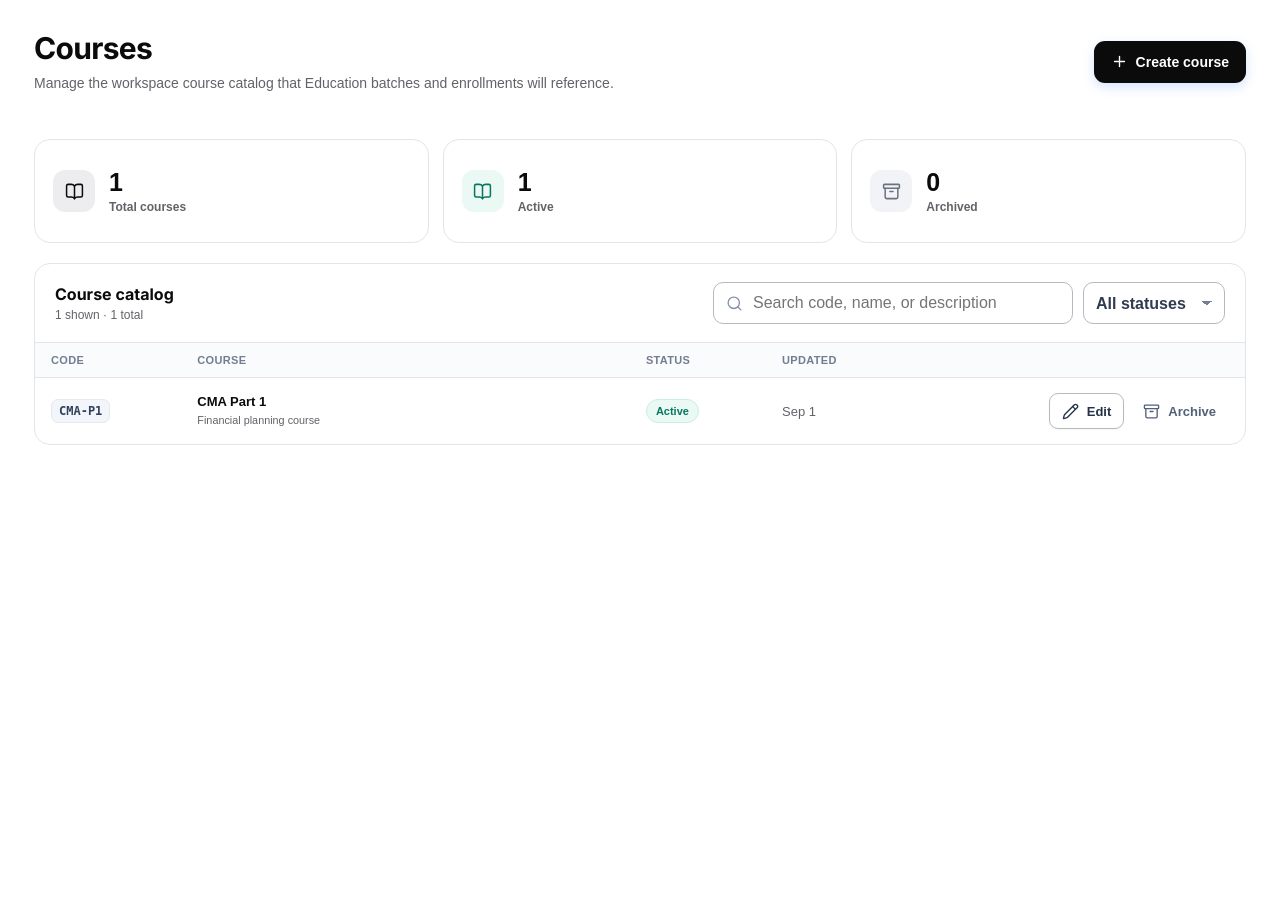
Test: CoursesPage › creates and edits a workspace course
expect the text "CMA Part 1" is shown: met, box [197,394,266,409]
Click the button "Create course".
click(1170, 62)  # box [1094,41,1246,83]
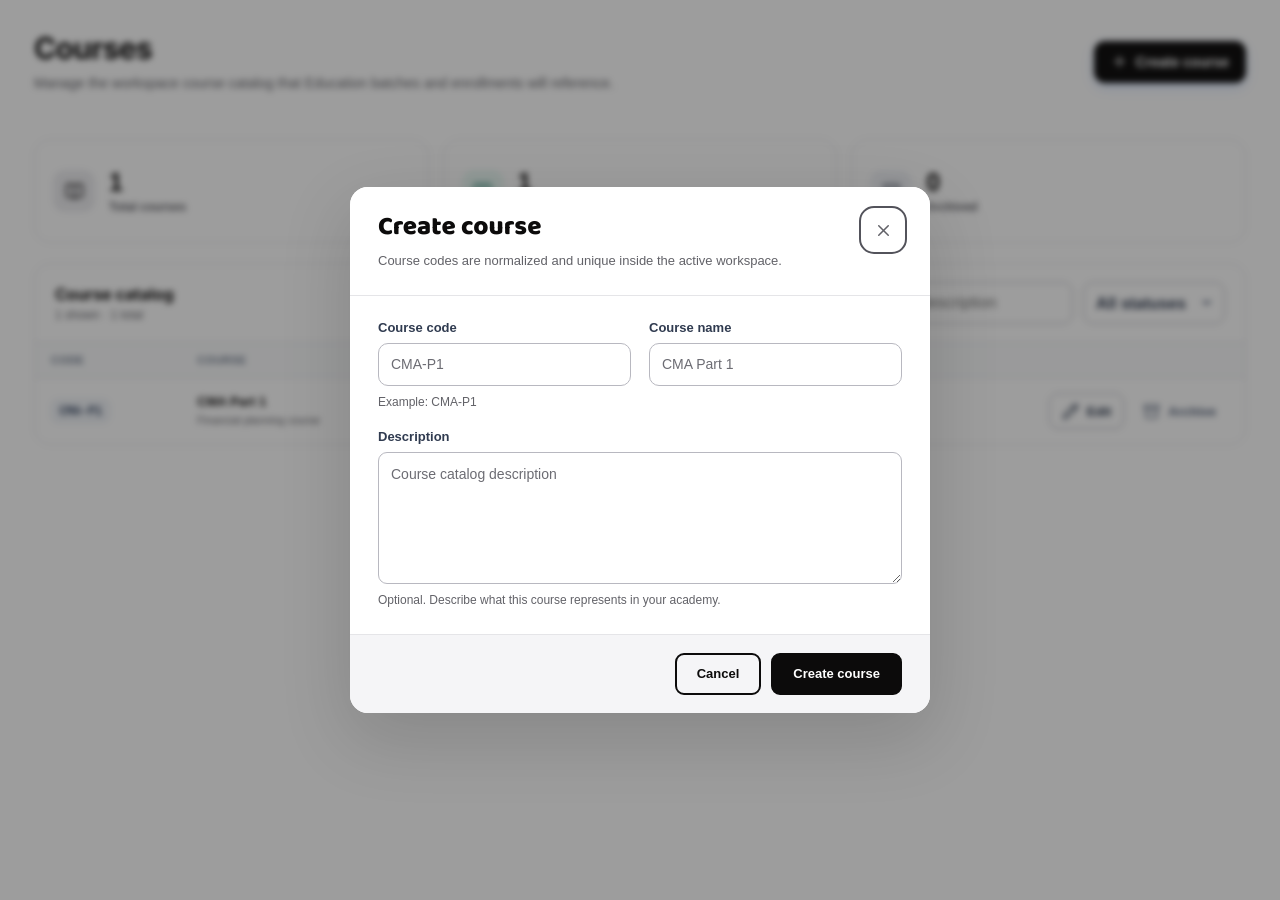
Type "cpa-core" into the field labelled "Course code".
click(504, 364); type("cpa-core")  # box [378,342,631,386]
Type "CPA Core" into the field labelled "Course name".
click(776, 364); type("CPA Core")  # box [649,342,902,386]
Type "CPA foundation curriculum" into the text box labelled "Description".
click(640, 518); type("CPA foundation curriculum")  # box [378,452,902,584]
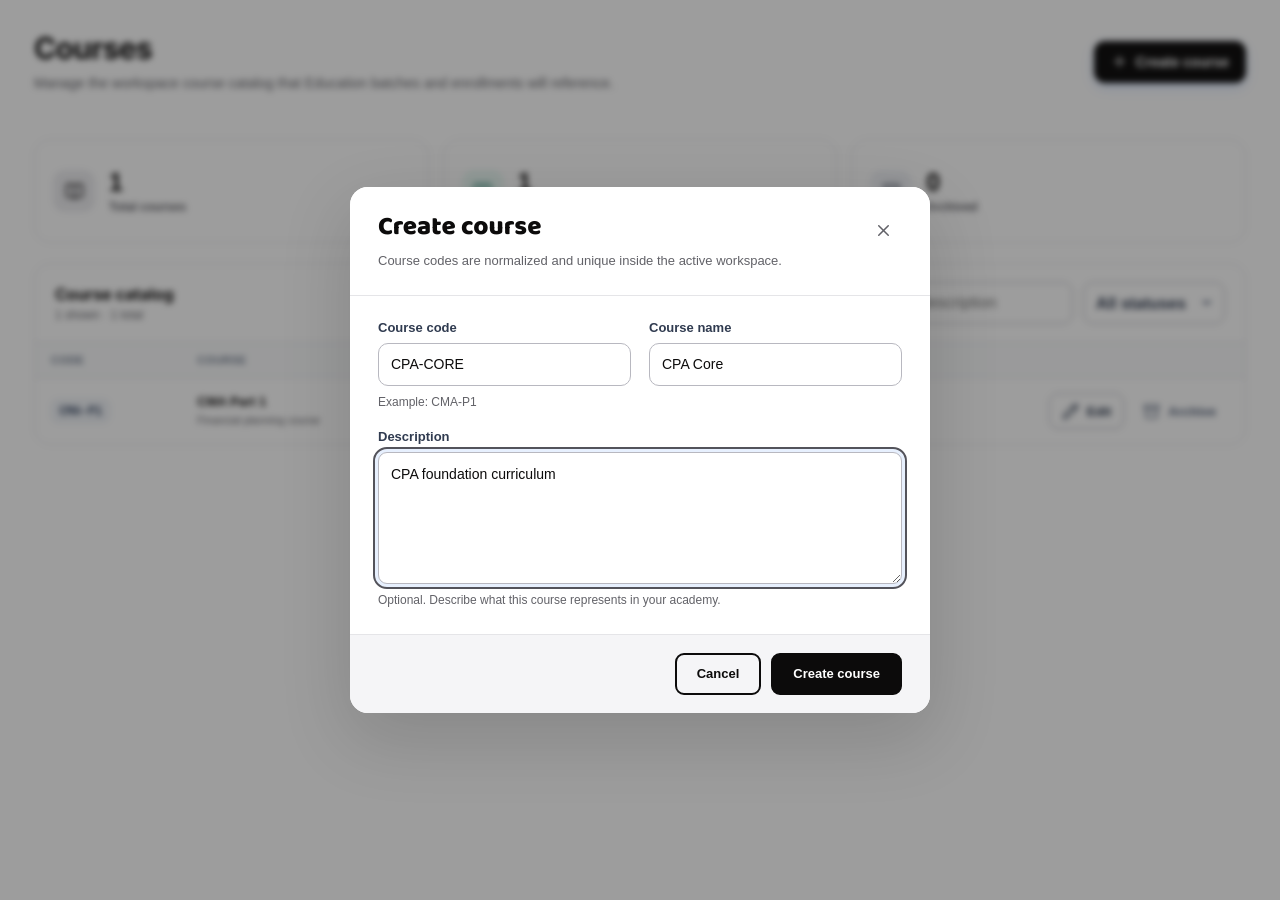
Click the button "Create course".
click(837, 674)  # box [771,653,902,695]
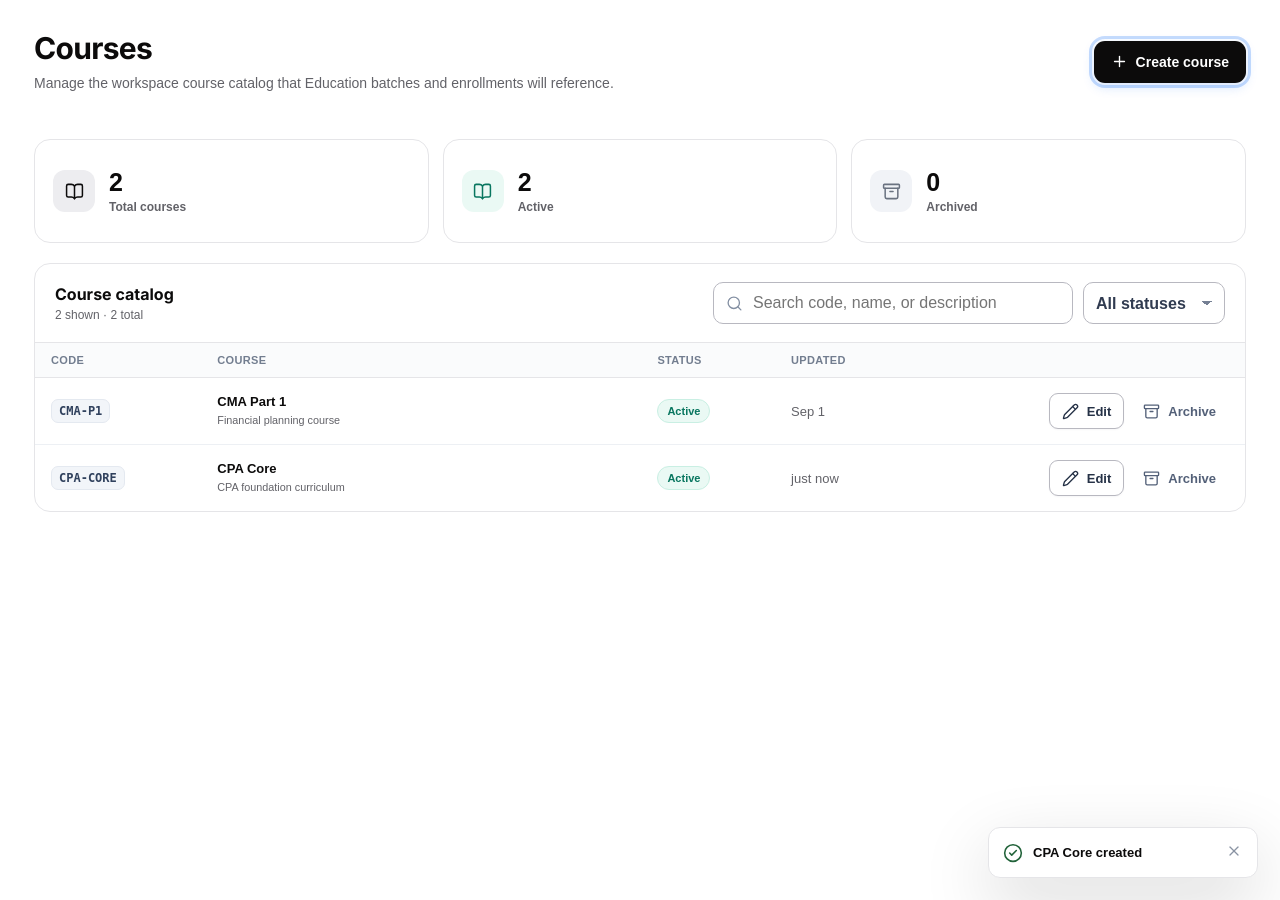
expect the text "CPA Core" is shown: met, box [217,461,276,476]
Click the button "Edit" in the row of "CPA-CORE".
click(1086, 478)  # box [1049,460,1124,496]
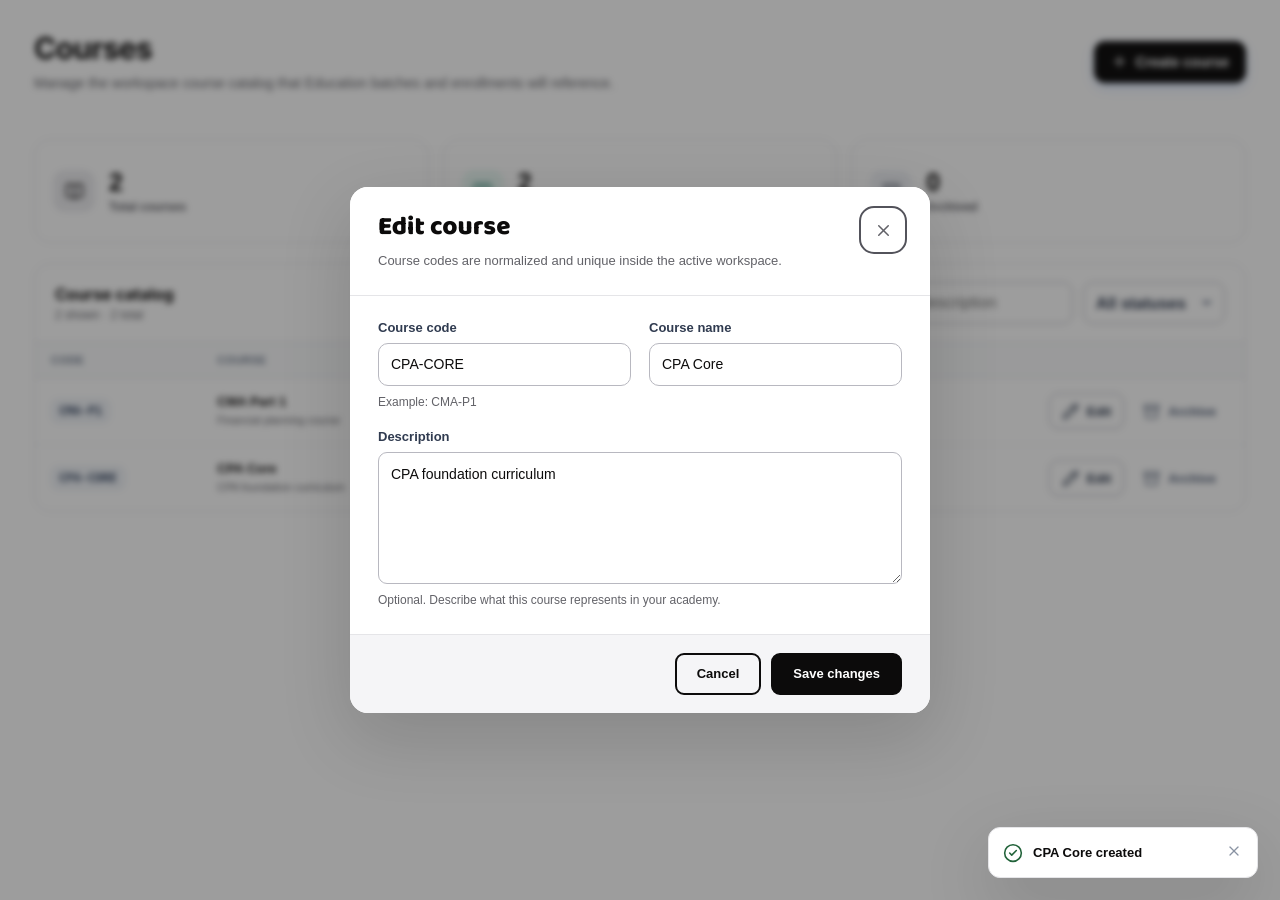
Replace the text in the field labelled "Course name" with "CPA Core Program" at (776, 364), box [649,342,902,386]
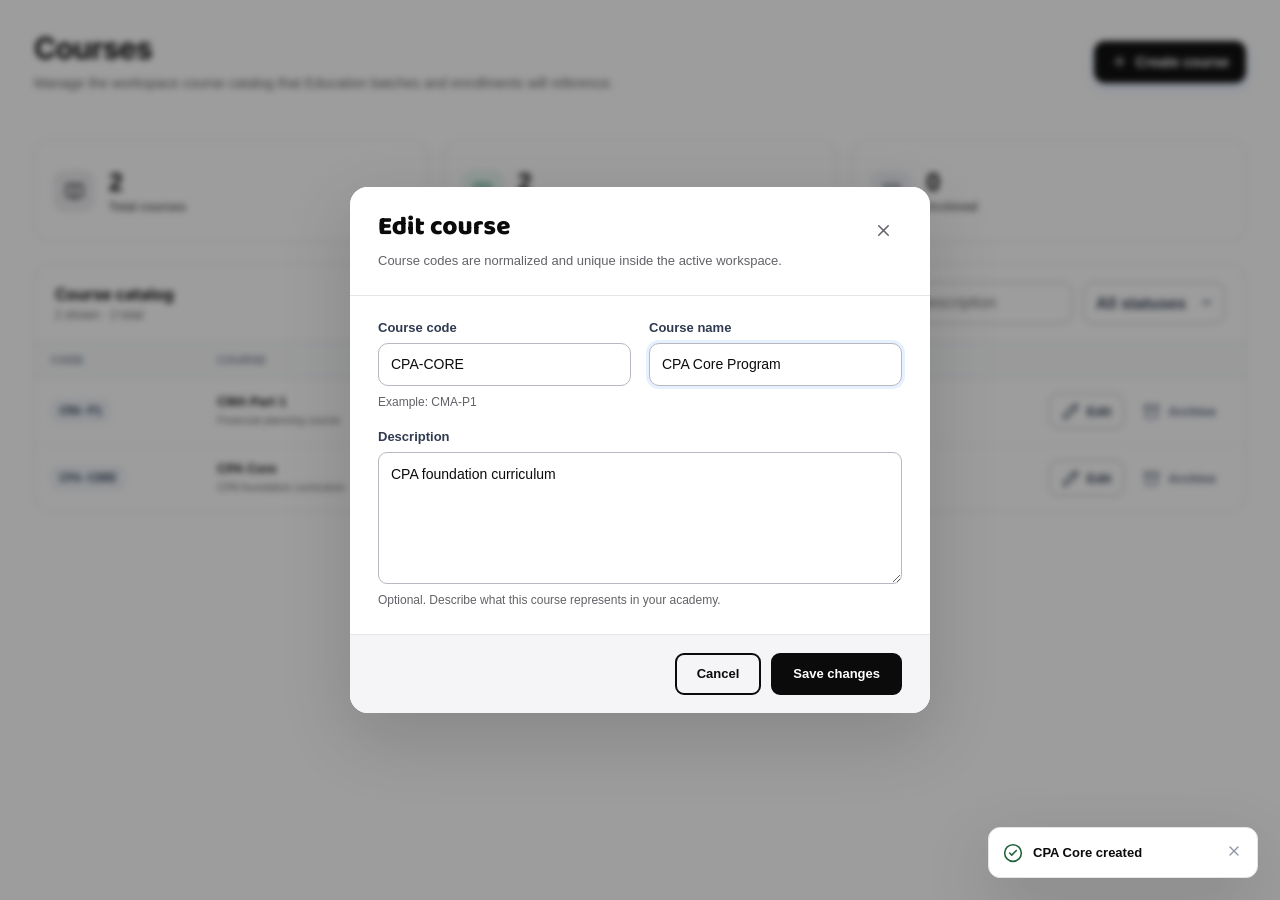
Click the button "Save changes".
click(837, 674)  # box [771,653,902,695]
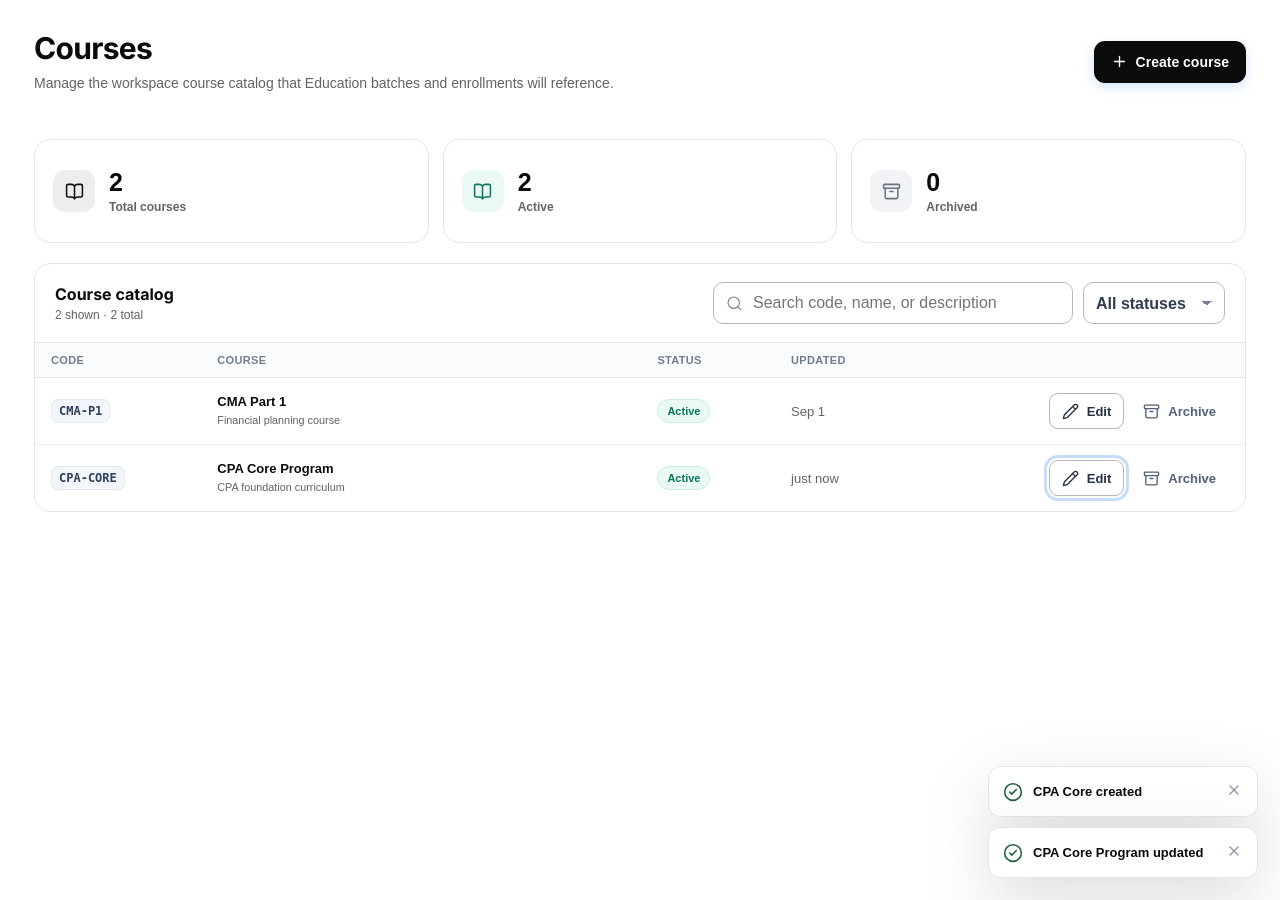
expect the text "CPA Core Program" is shown: met, box [217,461,334,476]
